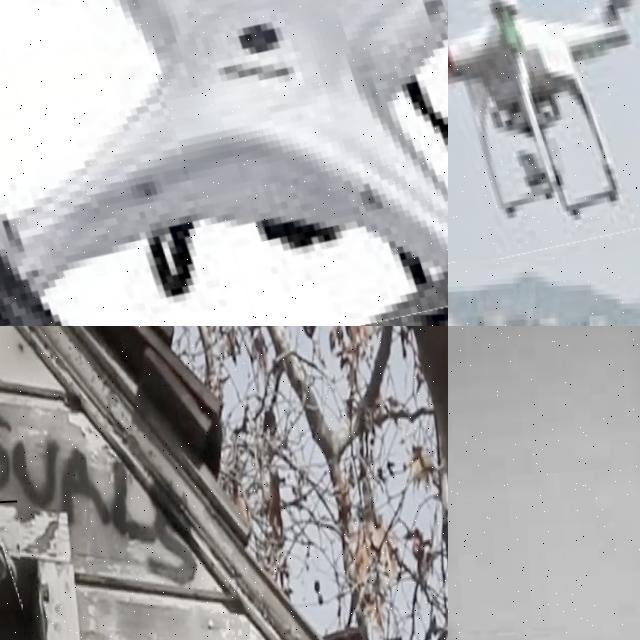0: (448, 0, 640, 267)
drone: (0, 0, 448, 326)
